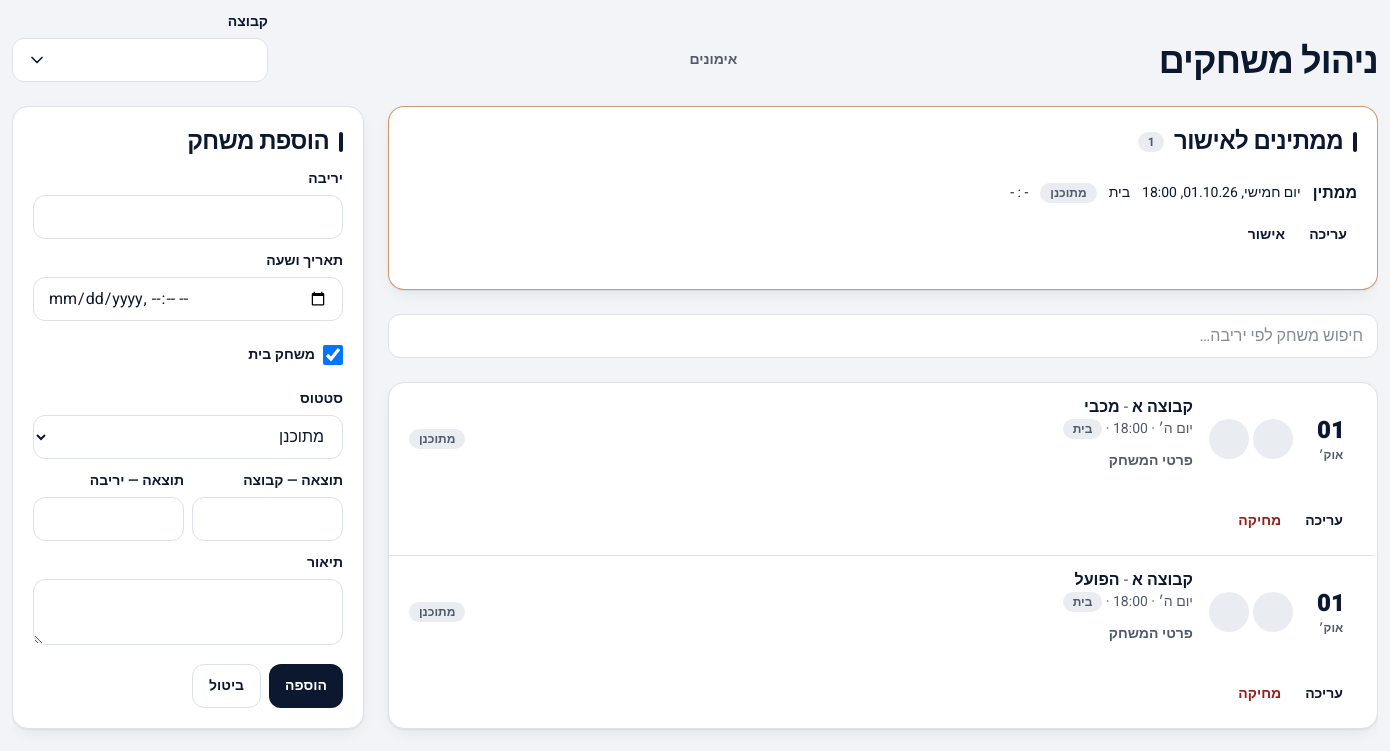
Test: AdminGamesView › search filters games by opponent name and leaves pending games visible
Type "הפועל" into the search field with placeholder "חיפוש משחק לפי יריבה…" at x=883, y=336, box [388,314,1378,358]
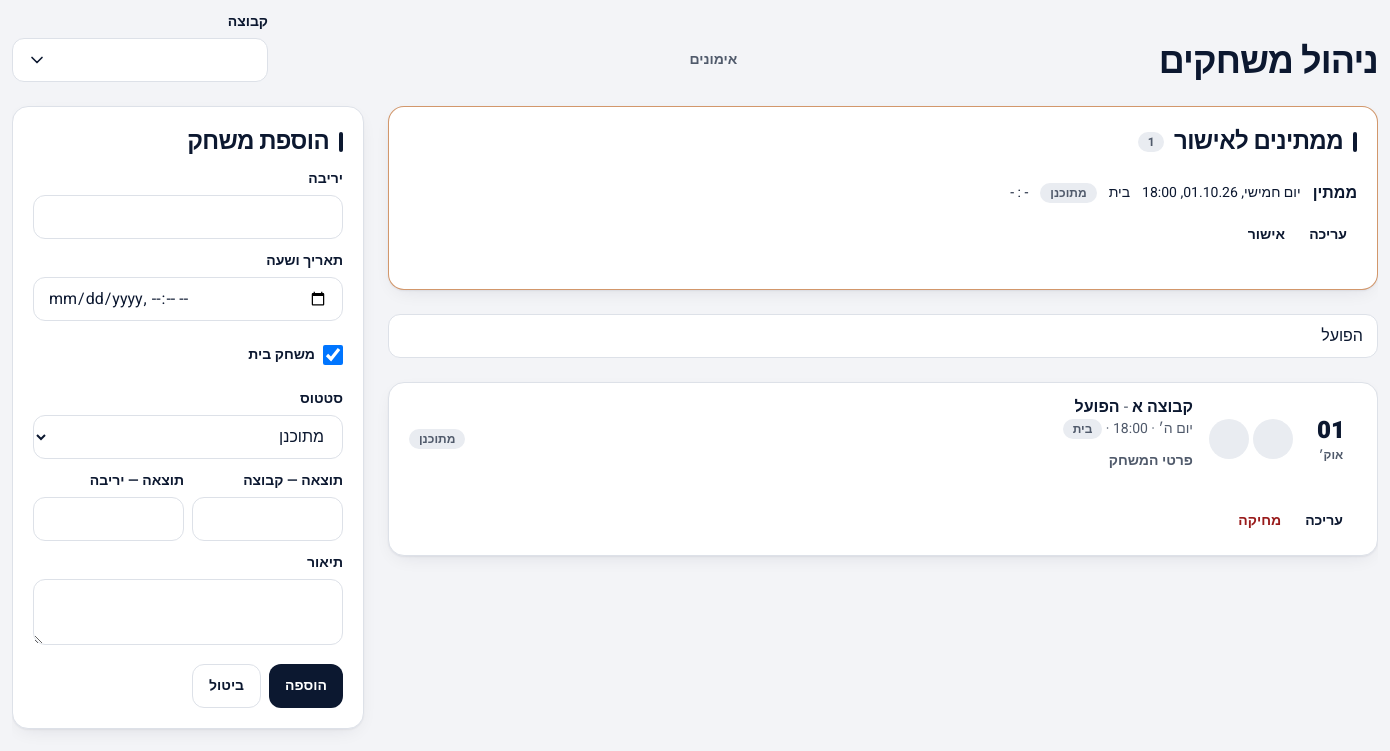
Expected: the text "הפועל" is shown, [1074,395,1120,419]
Expected: the text "מכבי" is gone
